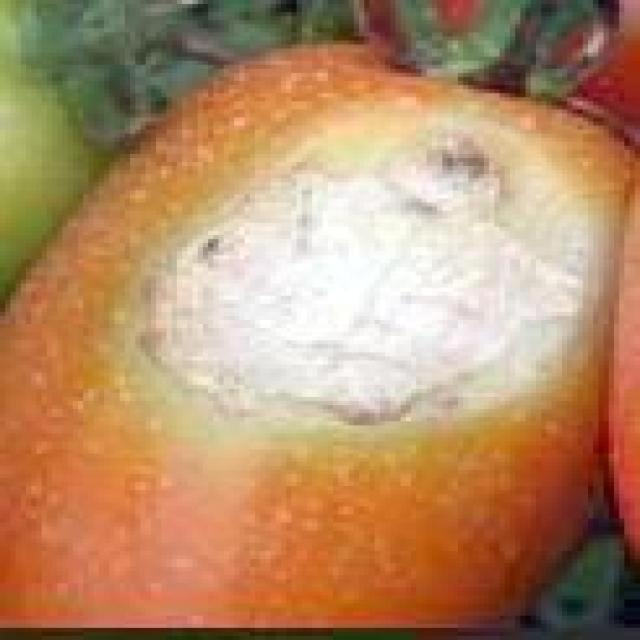Sunscald Fruit: (85, 63, 397, 299)
